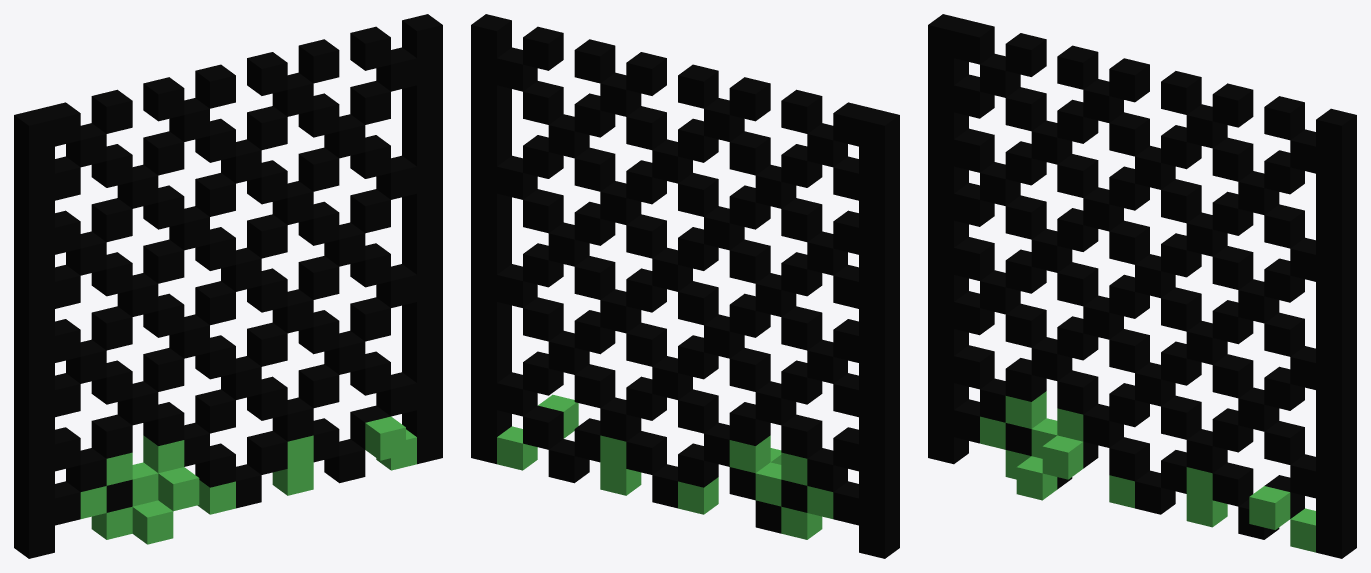
Rendered from fence.obj.
3 views of the same model, side by side, from view 1: azimuth 30°, elevation 25°; view 2: azimuth 150°, elevation 25°; view 3: azimuth 330°, elevation 25° (orthographic).
Bounding box in the file's own units: 1.6 × 1.6 × 0.2.
1 material, 1 textured.
